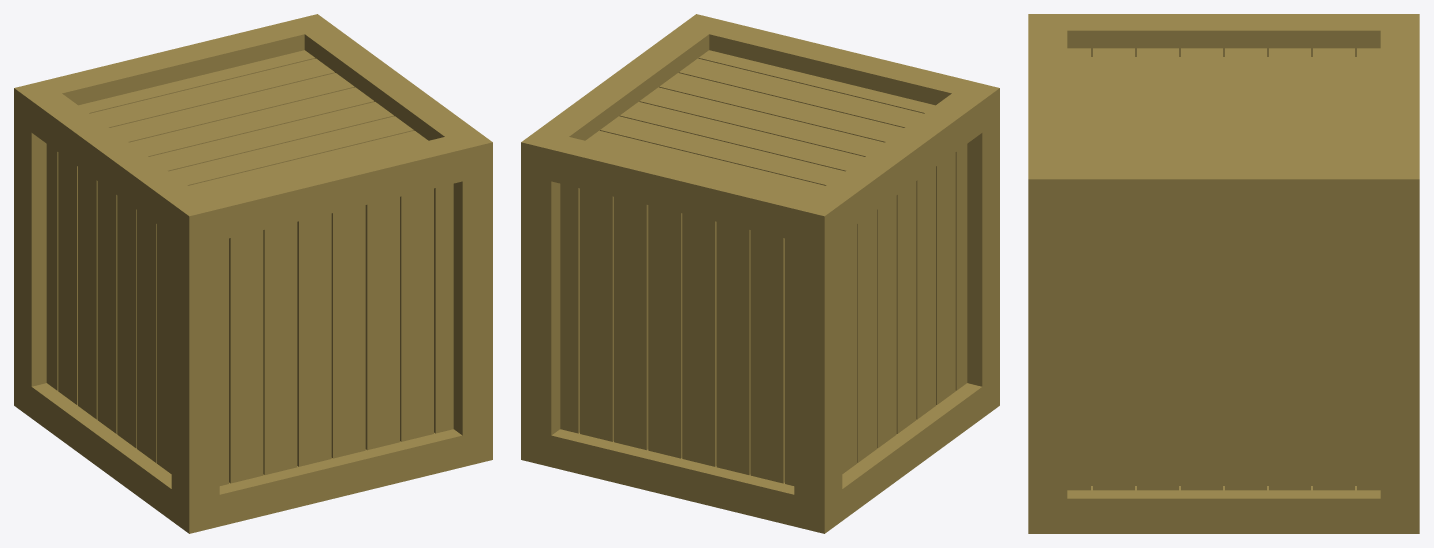
Rendered from crate.fbx.
3 renders of one model, left to right at view 1: azimuth 30°, elevation 25°; view 2: azimuth 150°, elevation 25°; view 3: azimuth 270°, elevation 25°, orthographic. The views are drawn at different scales.
Visible parts, largest first — view 1: Crate; view 2: Crate; view 3: Crate.
Boxes of the visible parts, x1,y1,x2,y2 form: Crate: (14,14,492,533); Crate: (521,14,999,533); Crate: (1028,14,1419,533).
Size of the model in its own units: 100 by 100 by 100.
